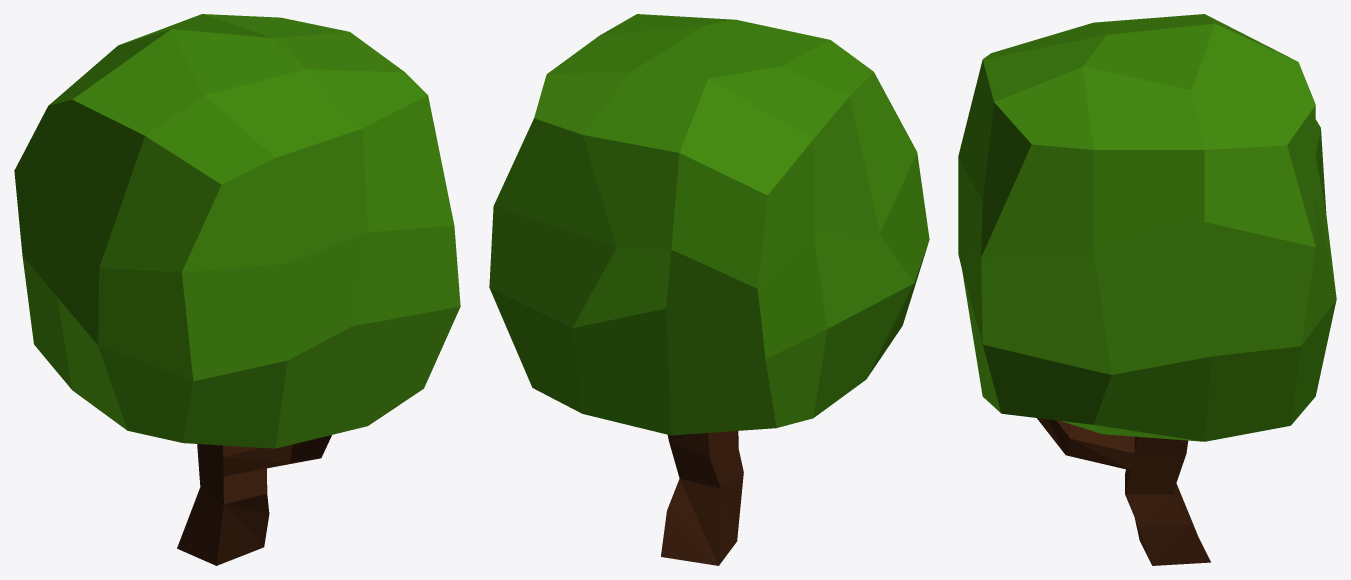
The model's file is bush small.fbx.
3 renders of one model, left to right at view 1: azimuth 30°, elevation 25°; view 2: azimuth 150°, elevation 25°; view 3: azimuth 270°, elevation 25°, orthographic. The views are drawn at different scales.
Parts seen in each view (by area): view 1: bush small, wood small; view 2: bush small, wood small; view 3: bush small, wood small.
Part boxes in pixels (x1,y1,x2,y2): bush small: (14, 14, 460, 448); wood small: (177, 435, 331, 565); bush small: (489, 14, 929, 435); wood small: (661, 431, 743, 565); bush small: (958, 14, 1336, 441); wood small: (1037, 418, 1210, 565).
Size of the model in its own units: 2.52 by 3.53 by 2.35.
